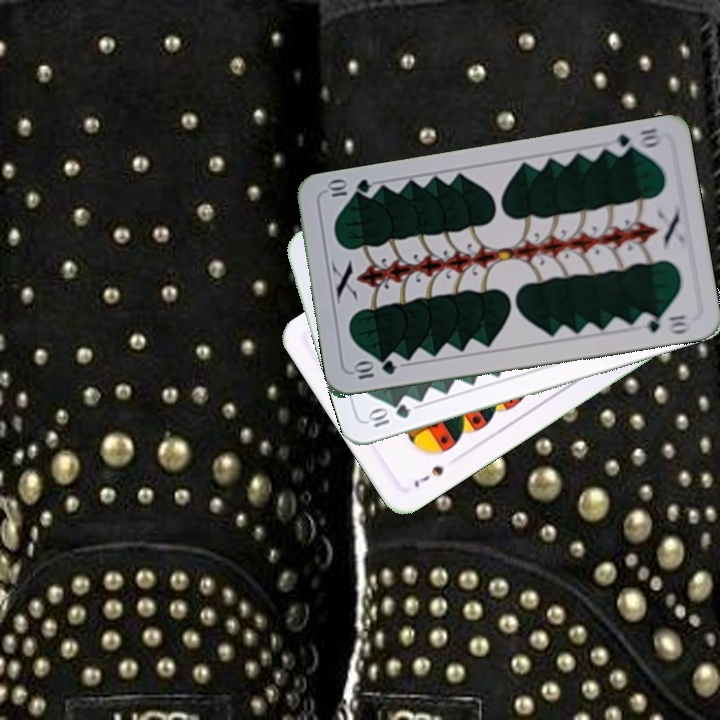G10: (607, 124, 665, 158), (364, 400, 413, 430), (350, 356, 399, 382)
S7: (409, 461, 447, 490)
